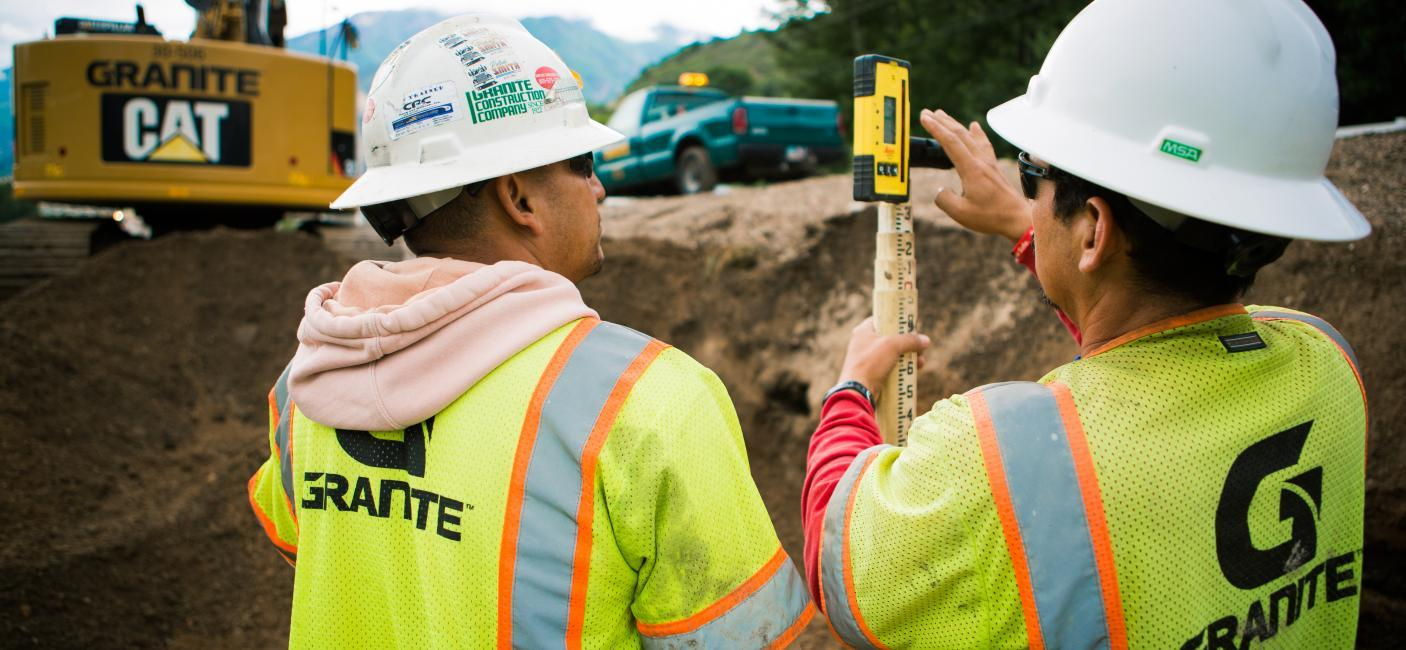helmet: (983, 1, 1373, 246), (328, 10, 630, 216)
